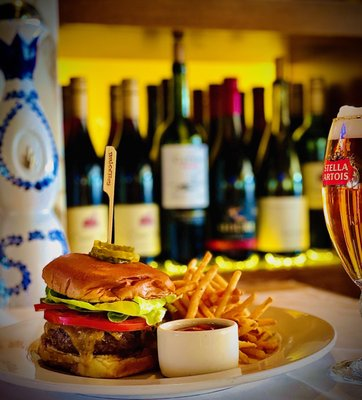pizza: (67, 203, 110, 254)
soup: (29, 249, 185, 379)
sushi: (157, 317, 240, 377)
